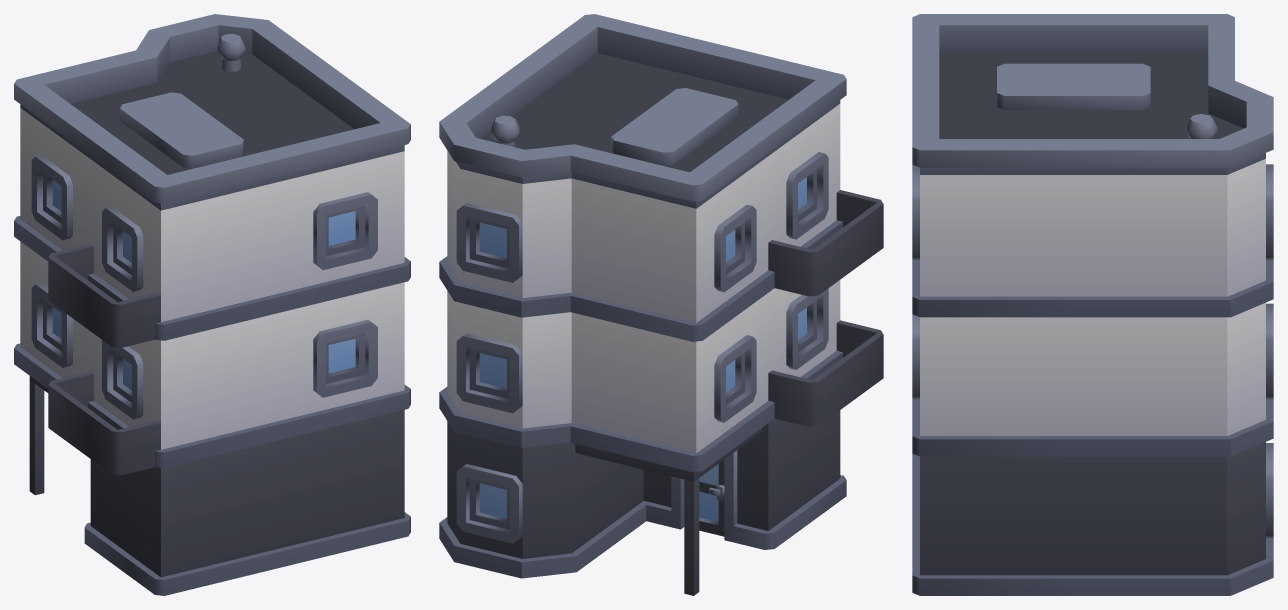
The model's file is building-b.glb.
3 renders of one model, left to right at view 1: azimuth 30°, elevation 25°; view 2: azimuth 150°, elevation 25°; view 3: azimuth 270°, elevation 25°, orthographic. The views are drawn at different scales.
Parts seen in each view (by area): view 1: building-b; view 2: building-b; view 3: building-b.
Boxes of the visible parts, bbox=[...] form: building-b: bbox=[14, 14, 410, 595]; building-b: bbox=[439, 14, 883, 595]; building-b: bbox=[912, 14, 1273, 595].
Bounding box in the file's own units: 0.97 × 1.29 × 0.94.
Materials: 1 (1 with a texture image).
